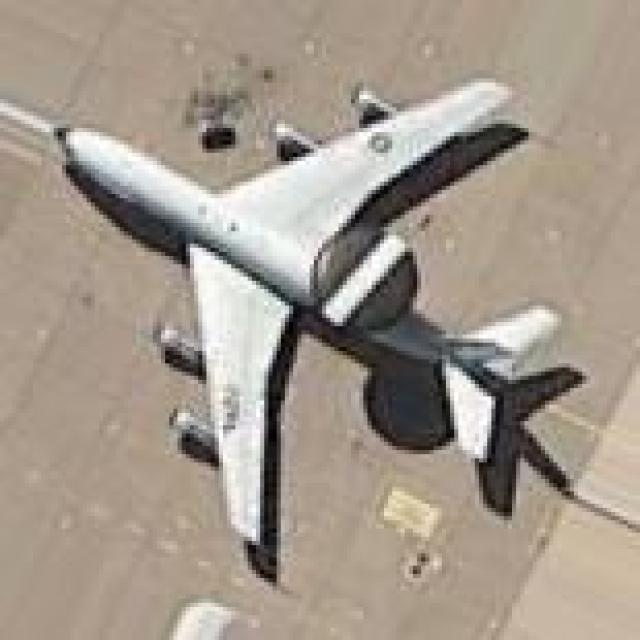E-3_TopDown: (0, 62, 595, 582)
